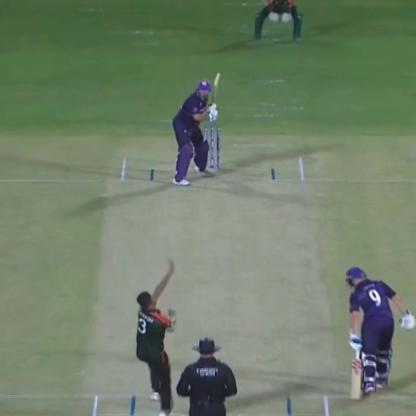bat: (338, 332, 370, 401), (207, 67, 226, 120)
pitch: (76, 154, 351, 415)
